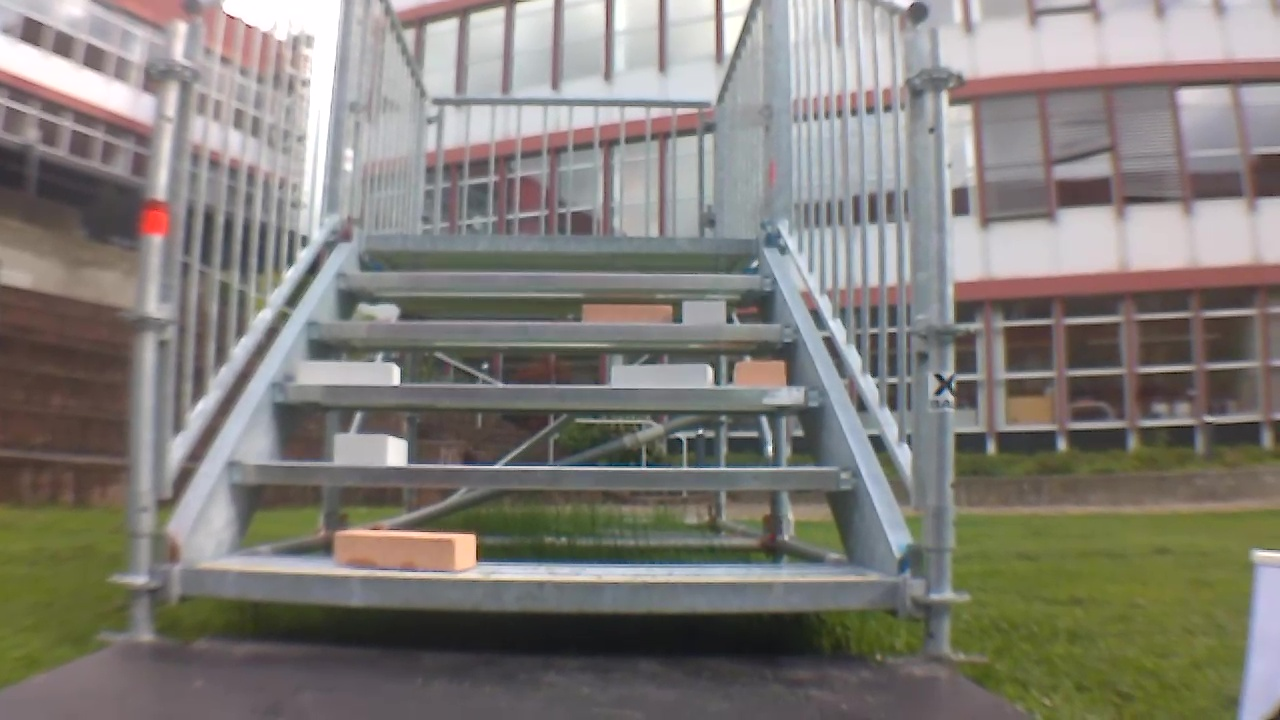brick: (335, 532, 476, 571), (611, 364, 713, 388), (335, 433, 406, 465), (298, 362, 398, 384), (584, 304, 672, 324), (738, 361, 784, 385), (684, 301, 725, 323)
edge: (184, 569, 897, 612), (230, 463, 859, 489), (273, 382, 823, 408), (302, 320, 803, 343), (338, 272, 774, 290), (363, 235, 757, 252)
stairs: (94, 2, 987, 665)
steps: (166, 230, 905, 622)
